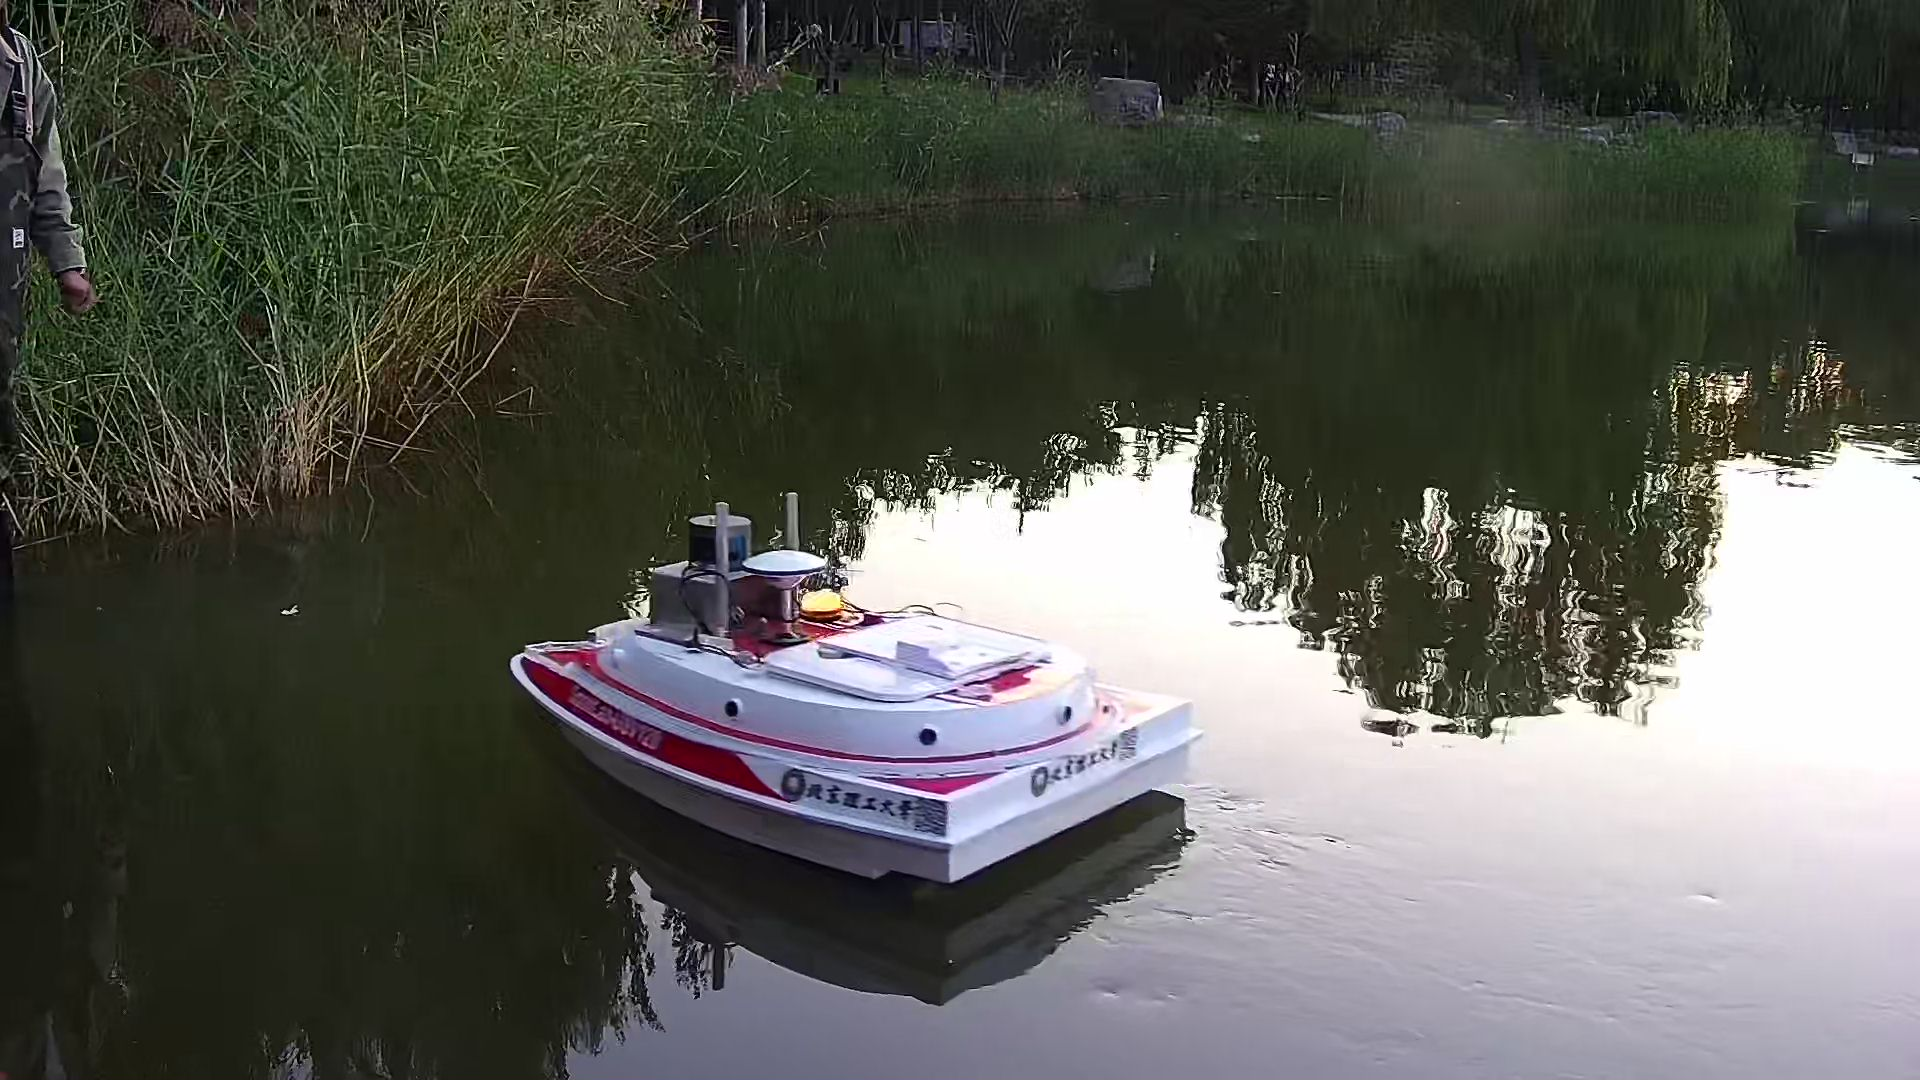boat: (498, 495, 1196, 891)
